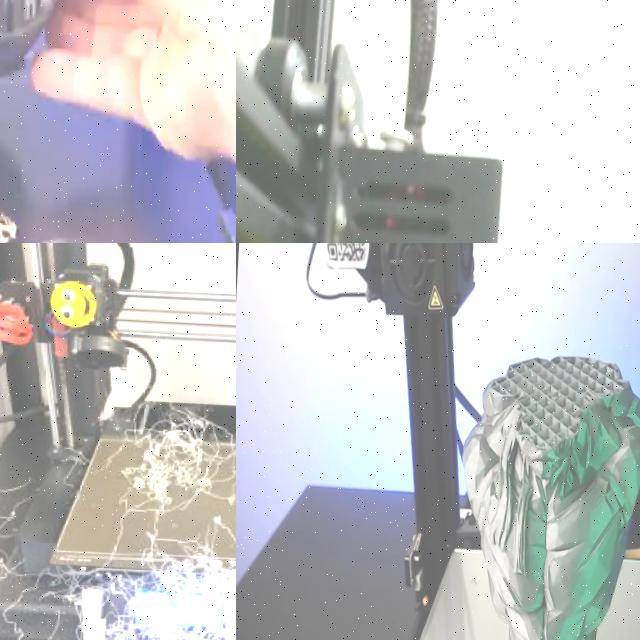spaghetti: (28, 375, 236, 553), (0, 549, 236, 640)
